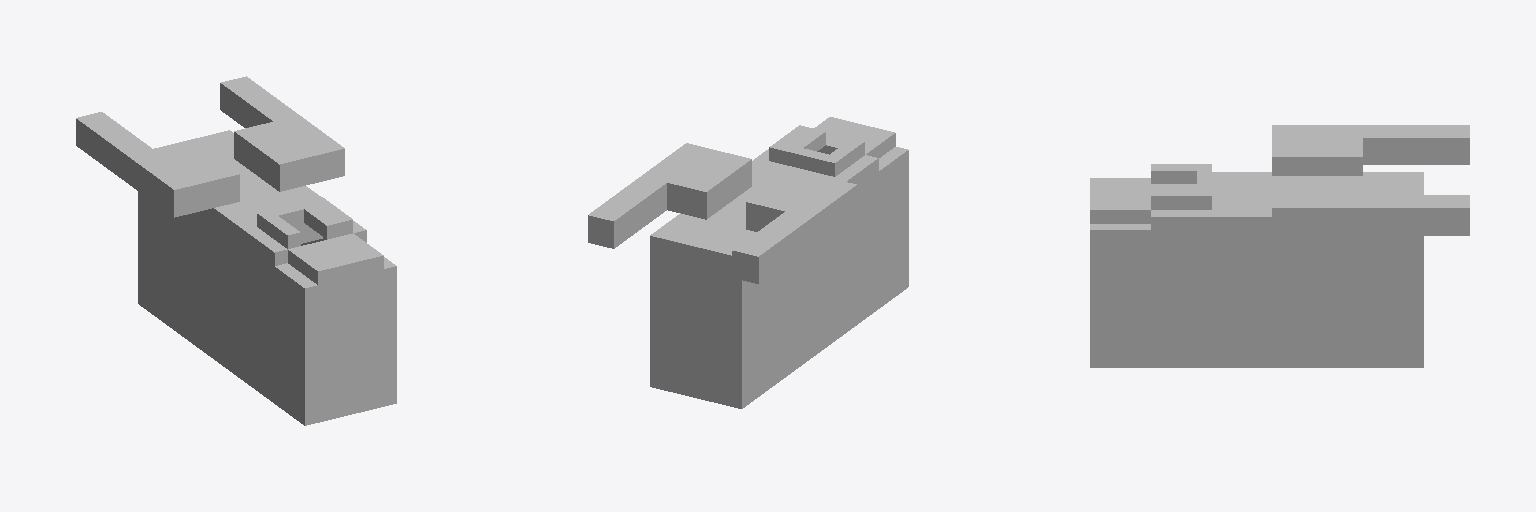
File: body.obj
The picture shows the model from 3 angles: view 1: azimuth 30°, elevation 25°; view 2: azimuth 150°, elevation 25°; view 3: azimuth 270°, elevation 25°; orthographic projection.
Size of the model in its own units: 13 by 13 by 25.